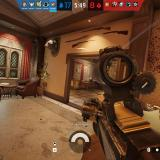Character: (88, 75, 92, 81)
Head: (89, 76, 90, 78)
